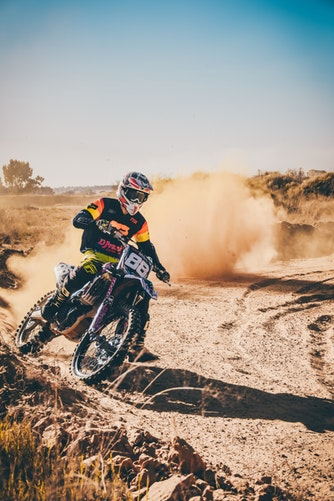helmet: (116, 175, 154, 214)
